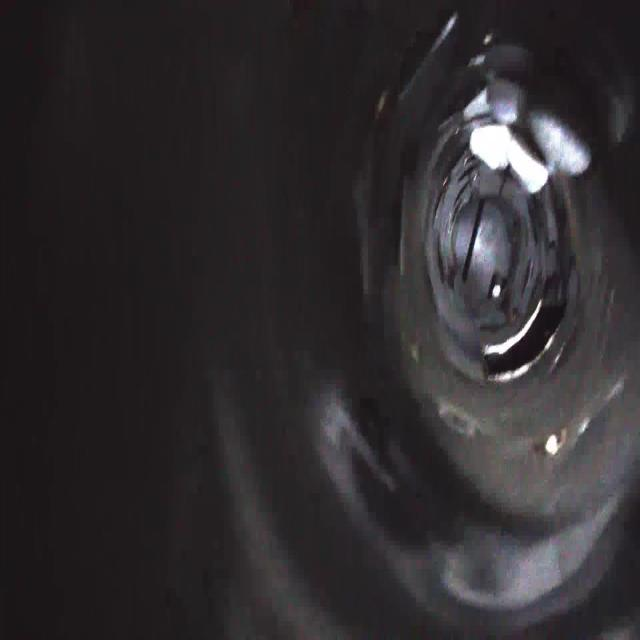crack: (450, 142, 493, 197), (421, 169, 452, 236), (525, 195, 559, 250), (516, 262, 550, 304), (502, 132, 522, 182), (471, 314, 508, 341), (430, 231, 446, 288)
hole: (476, 296, 570, 393)
